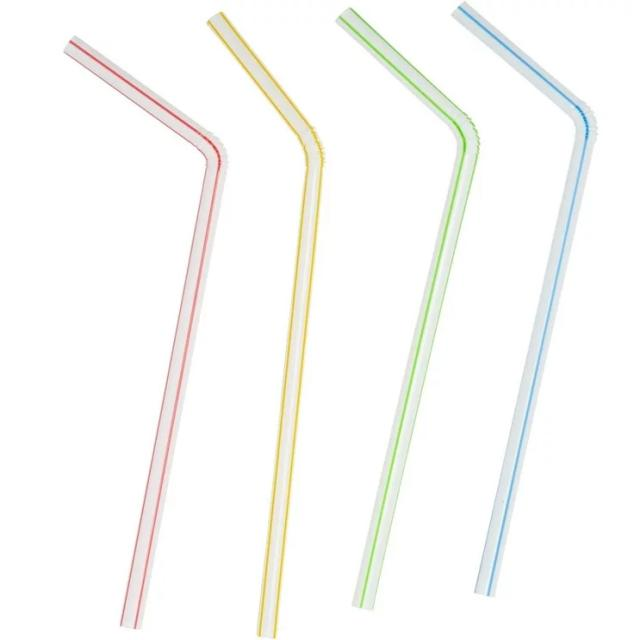Dry: (61, 35, 228, 630), (449, 0, 598, 598), (333, 6, 480, 610), (205, 10, 328, 639)
